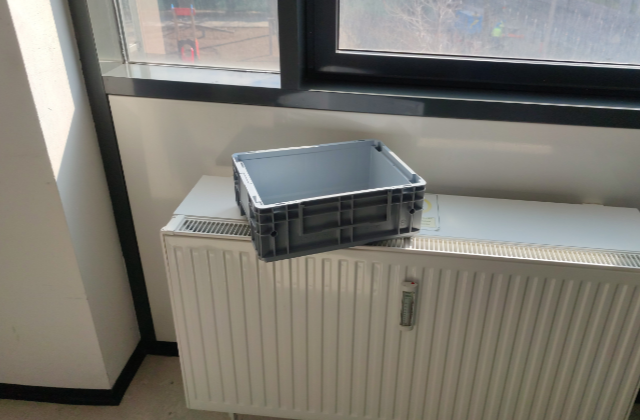Box: (230, 138, 428, 263)
